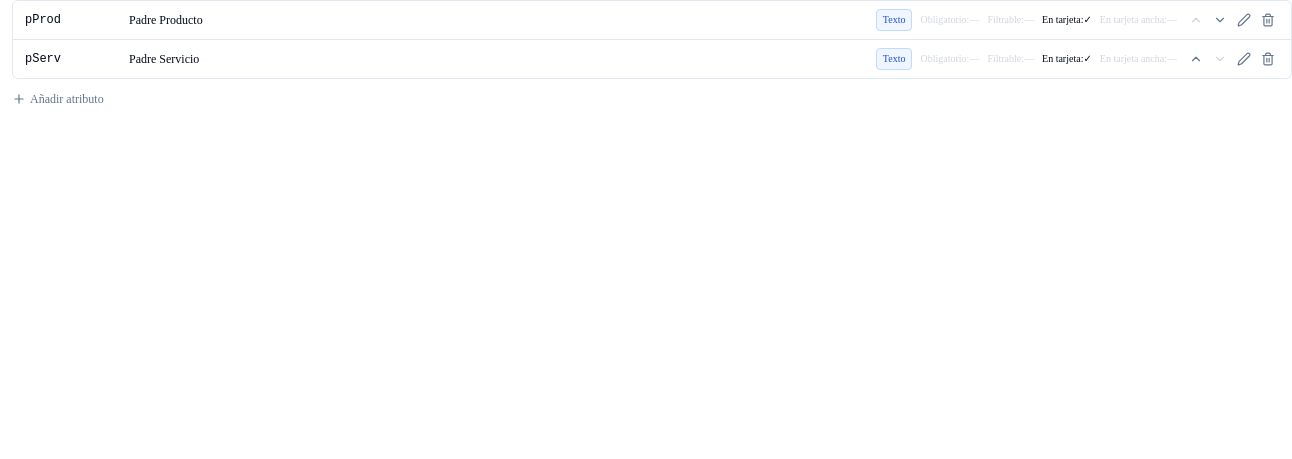
AttributeSchemaEditor — impacto en subcategorías (contador, editando el PADRE) › con una hija → muestra su impacto ANTES de tocar nada (refleja lo ya guardado del padre)
Click the button with test id "add-attribute-btn".
click(58, 99)  # box [12,91,104,107]
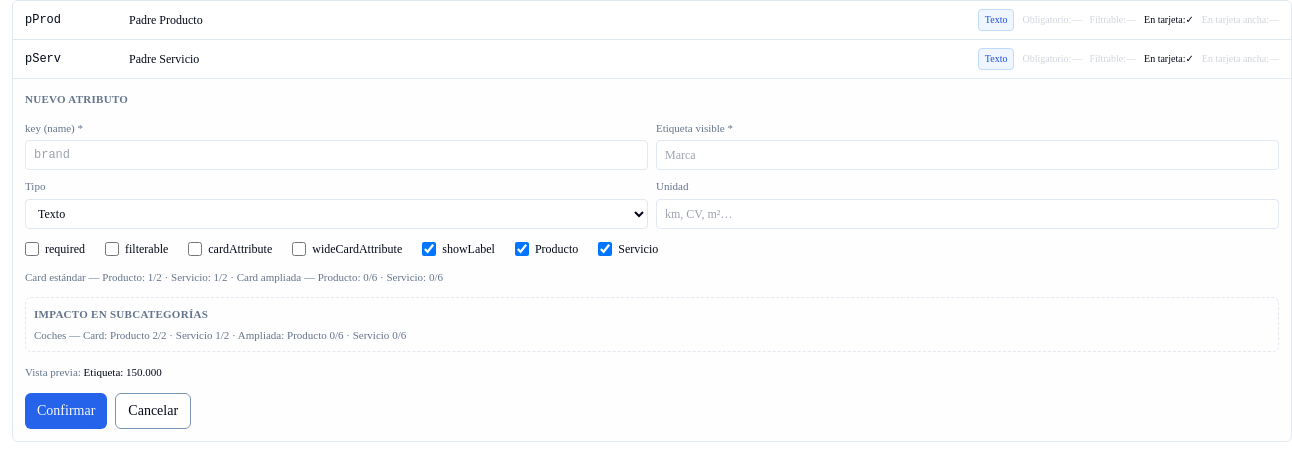
Expected: the element with test id "children-impact" is shown, [25,297,1279,352]
Expected: the text with test id "child-impact-Coches" shows "Coches", [34,328,66,340]
Expected: the text with test id "child-impact-Coches" shows "Producto 2/2", [34,328,406,340]
